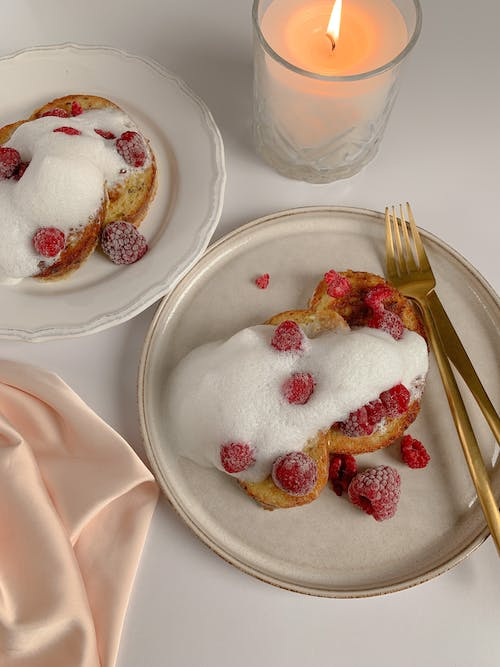knife: (414, 289, 500, 450)
